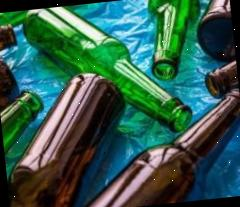glass: (21, 0, 194, 145), (0, 68, 138, 207), (145, 0, 208, 80)
